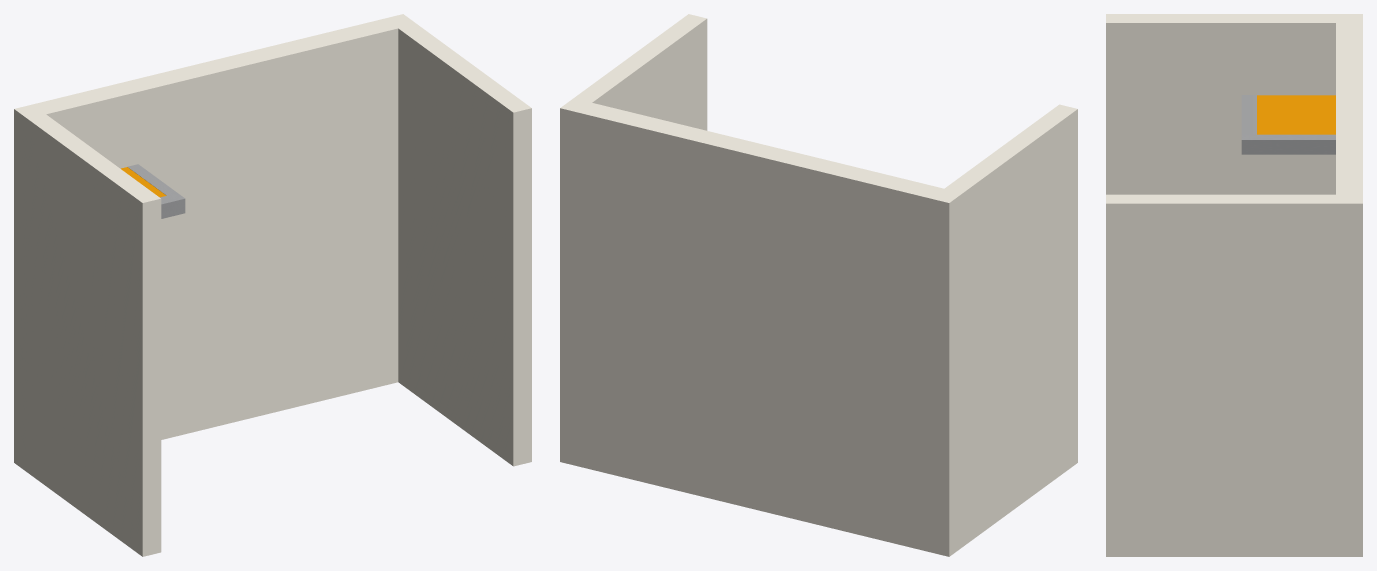
File: CubicleWithYellowShelf.fbx
3 views of the same model, side by side, from view 1: azimuth 30°, elevation 25°; view 2: azimuth 150°, elevation 25°; view 3: azimuth 270°, elevation 25° (orthographic).
Visible parts, largest first — view 1: Cube, Cube.009; view 2: Cube; view 3: Cube, Cube.008, Cube.009.
Boxes of the visible parts, x1,y1,x2,y2 form: Cube: [14, 14, 531, 556]; Cube.009: [127, 164, 185, 218]; Cube: [560, 14, 1077, 556]; Cube: [1106, 14, 1362, 556]; Cube.008: [1257, 95, 1335, 134]; Cube.009: [1241, 95, 1335, 154].
Size of the model in its own units: 904 by 785 by 518.
